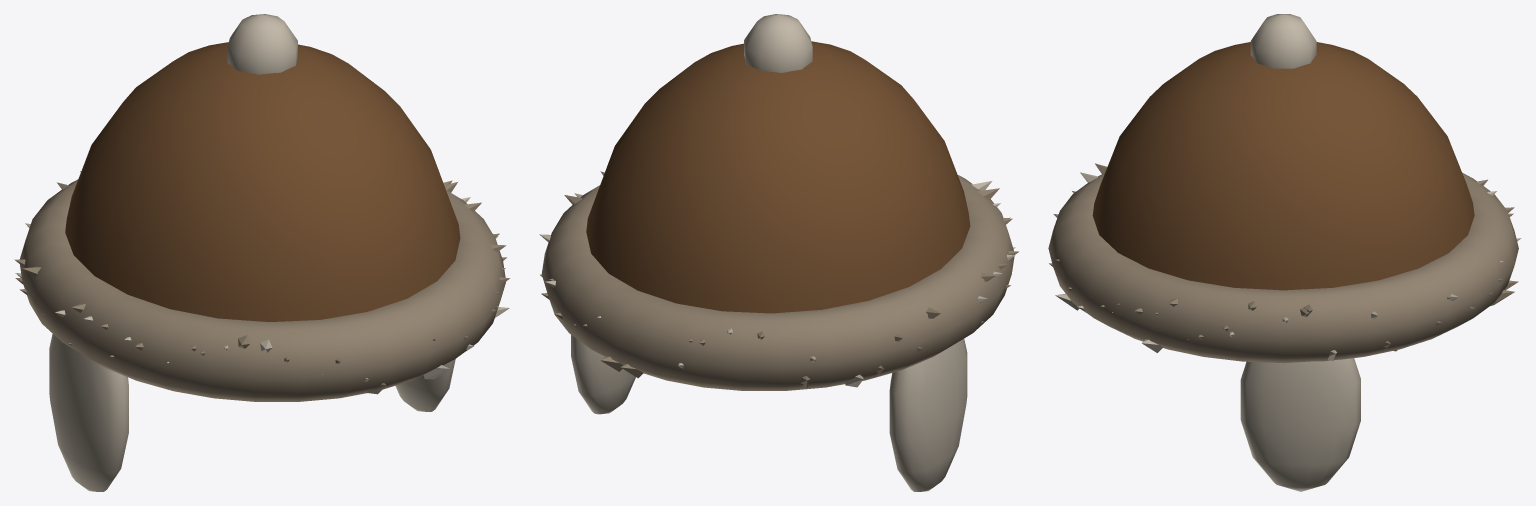
Rendered from fellhaube.glb.
The picture shows the model from 3 angles, left to right: view 1: azimuth 30°, elevation 25°; view 2: azimuth 150°, elevation 25°; view 3: azimuth 270°, elevation 25°; orthographic projection. The views are drawn at different scales.
Parts seen in each view (by area): view 1: Sphere; view 2: Sphere; view 3: Sphere.
Boxes of the visible parts, bbox=[...] form: Sphere: bbox=[14, 14, 509, 491]; Sphere: bbox=[539, 14, 1018, 491]; Sphere: bbox=[1048, 14, 1521, 491].
Bounding box in the file's own units: 0.2566 × 0.2578 × 0.2737.
